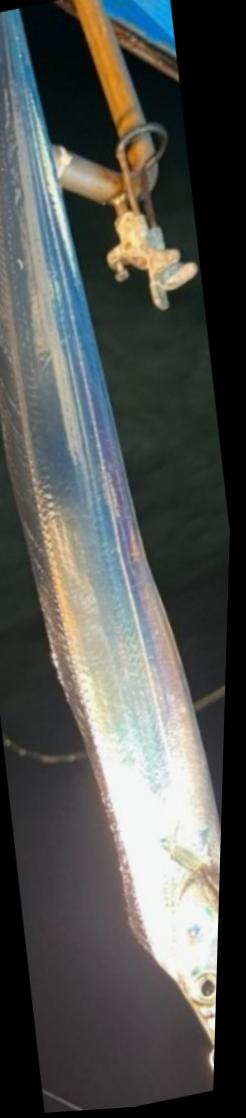fish: (0, 9, 226, 1058)
